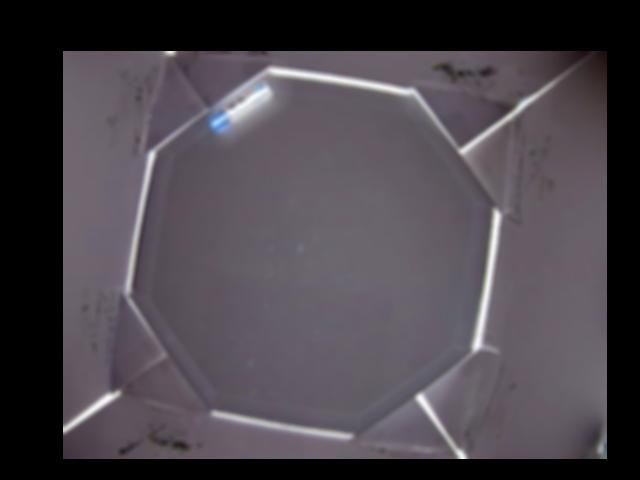Battery: (207, 82, 273, 134)
